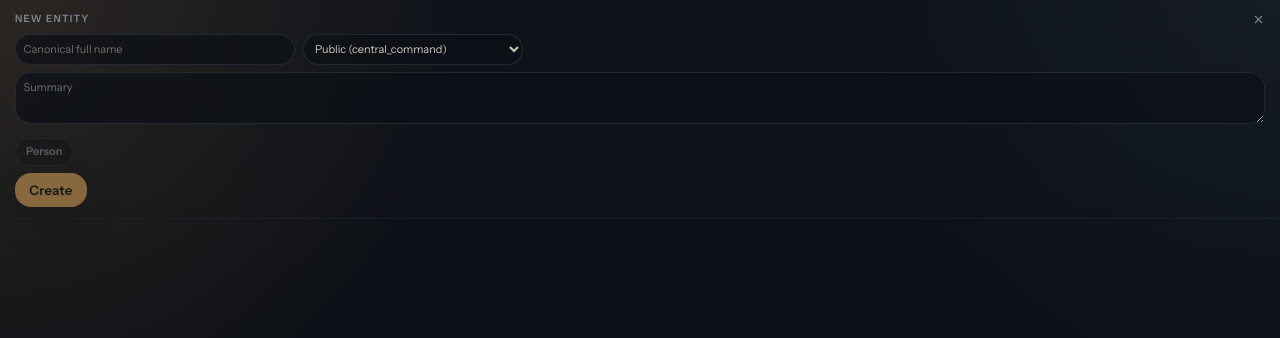
Test: AddEntity › shows a mismatch as its reason and remedy, with nothing about waiting
This screenshot has width=1280, height=338.
In the field named "New entity name": (155,49) [15, 34, 295, 65], type "Jane Doe"
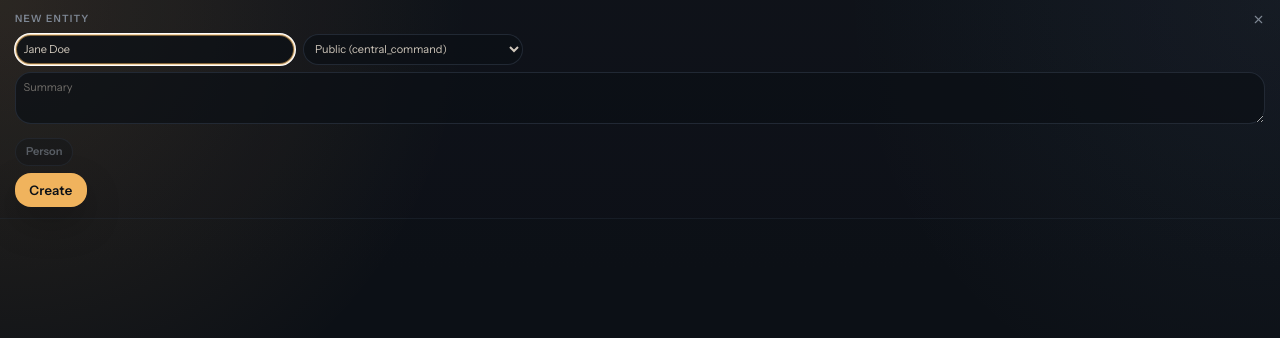
Click the button "Create": (51,190) [15, 173, 86, 207]
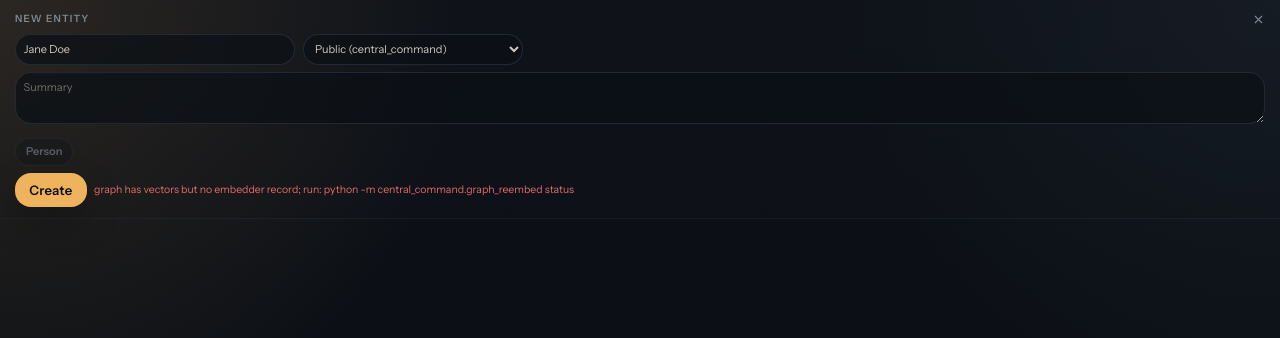
Expected: the message does not show "once the embedder is back", [94, 182, 574, 198]
Result: the message shows "graph has vectors but no embedder record; run: python -m central_command.graph_reembed status" at [94, 183, 574, 196]
